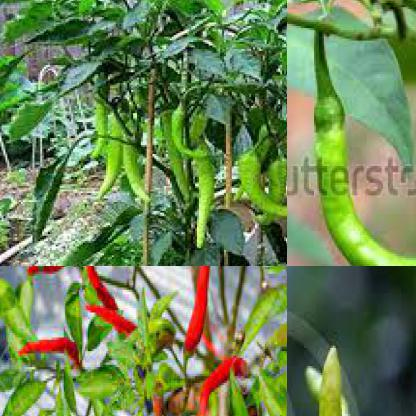Green Chilli: (314, 95, 415, 265), (228, 148, 286, 219), (160, 108, 191, 207), (317, 343, 353, 415), (195, 142, 218, 250), (170, 104, 214, 160), (96, 120, 126, 200), (257, 155, 286, 224), (122, 143, 154, 204), (92, 99, 110, 166), (74, 372, 126, 394), (90, 398, 125, 415)
